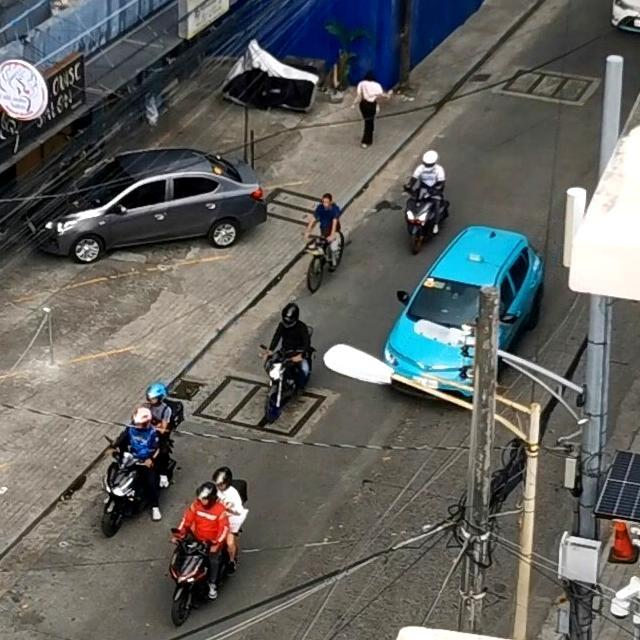Motorcycle: (96, 432, 168, 536), (172, 482, 234, 596), (266, 298, 314, 407), (136, 377, 186, 476), (404, 178, 452, 256)
